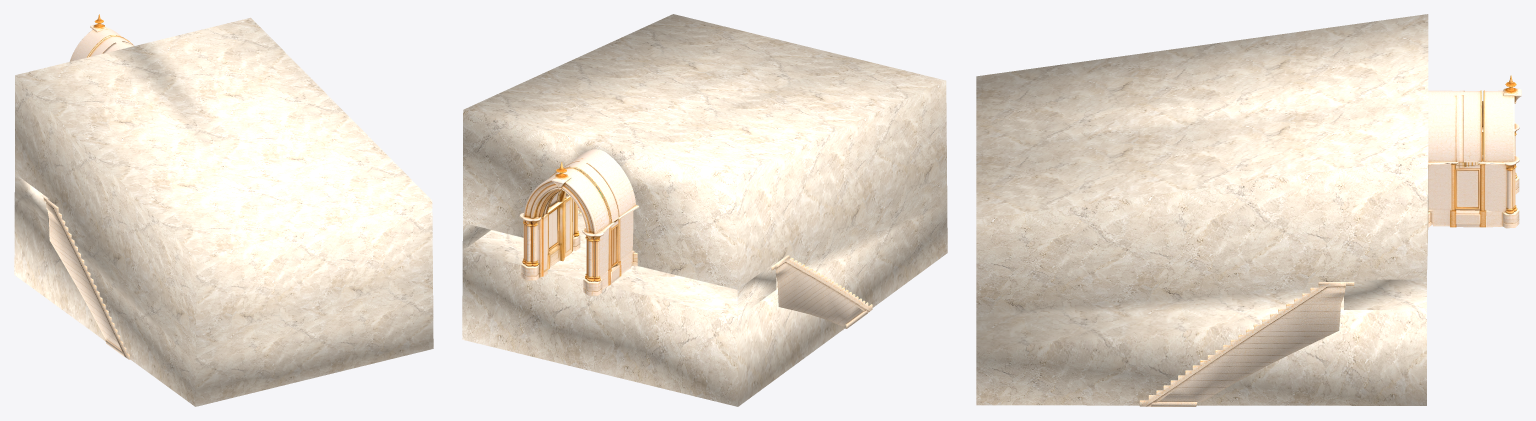
The model's file is CASTLE-INTERIOR.glb.
3 renders of one model, left to right at view 1: azimuth 30°, elevation 25°; view 2: azimuth 150°, elevation 25°; view 3: azimuth 270°, elevation 25°, orthographic. The views are drawn at different scales.
Parts seen in each view (by area): view 1: Cube.001, staircaseLt.001, entryWay; view 2: Cube.001, entryWay, staircaseLt.001; view 3: Cube.001, entryWay, staircaseLt.
Part boxes in pixels (x1=…): Cube.001: x1=14, y1=17, x2=433, y2=406; staircaseLt.001: x1=43, y1=197, x2=129, y2=359; entryWay: x1=69, y1=14, x2=134, y2=61; Cube.001: x1=462, y1=14, x2=947, y2=406; entryWay: x1=519, y1=149, x2=638, y2=295; staircaseLt.001: x1=771, y1=255, x2=872, y2=329; Cube.001: x1=976, y1=14, x2=1428, y2=405; entryWay: x1=1428, y1=75, x2=1521, y2=228; staircaseLt: x1=1139, y1=282, x2=1354, y2=406.
Size of what is drawn, in the model's own units: 28.42 by 23.94 by 44.77.
12 materials, 12 textured.
